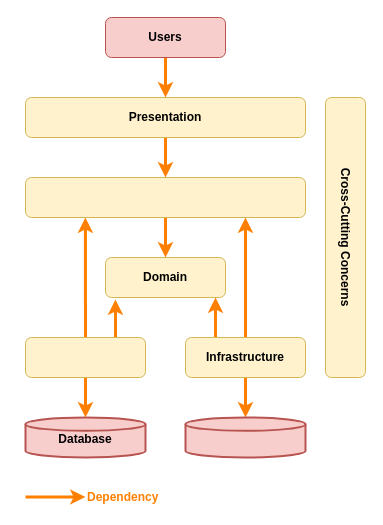
Some shapes in this 383 by 525 pixel diagram are drawn without their labels. Here are the shapes that lost their labels. From the top down, the centre of each, then its label:
the point at 165,197: Application
the point at 85,357: Persistence
the point at 245,437: Storage, OS, ...
